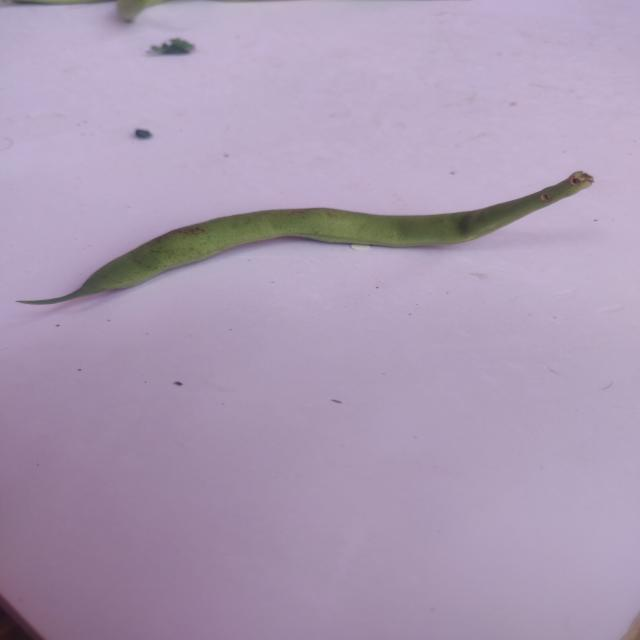Beans: (17, 158, 600, 328)
